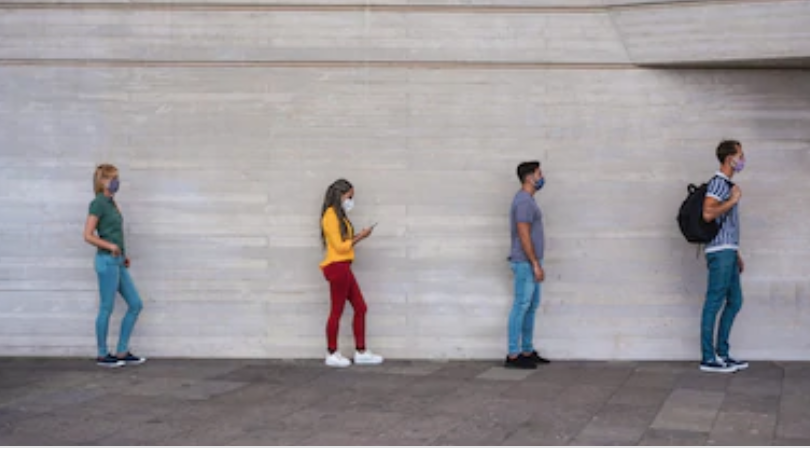Good: (88, 162, 390, 375), (508, 136, 750, 380), (320, 162, 557, 379)
